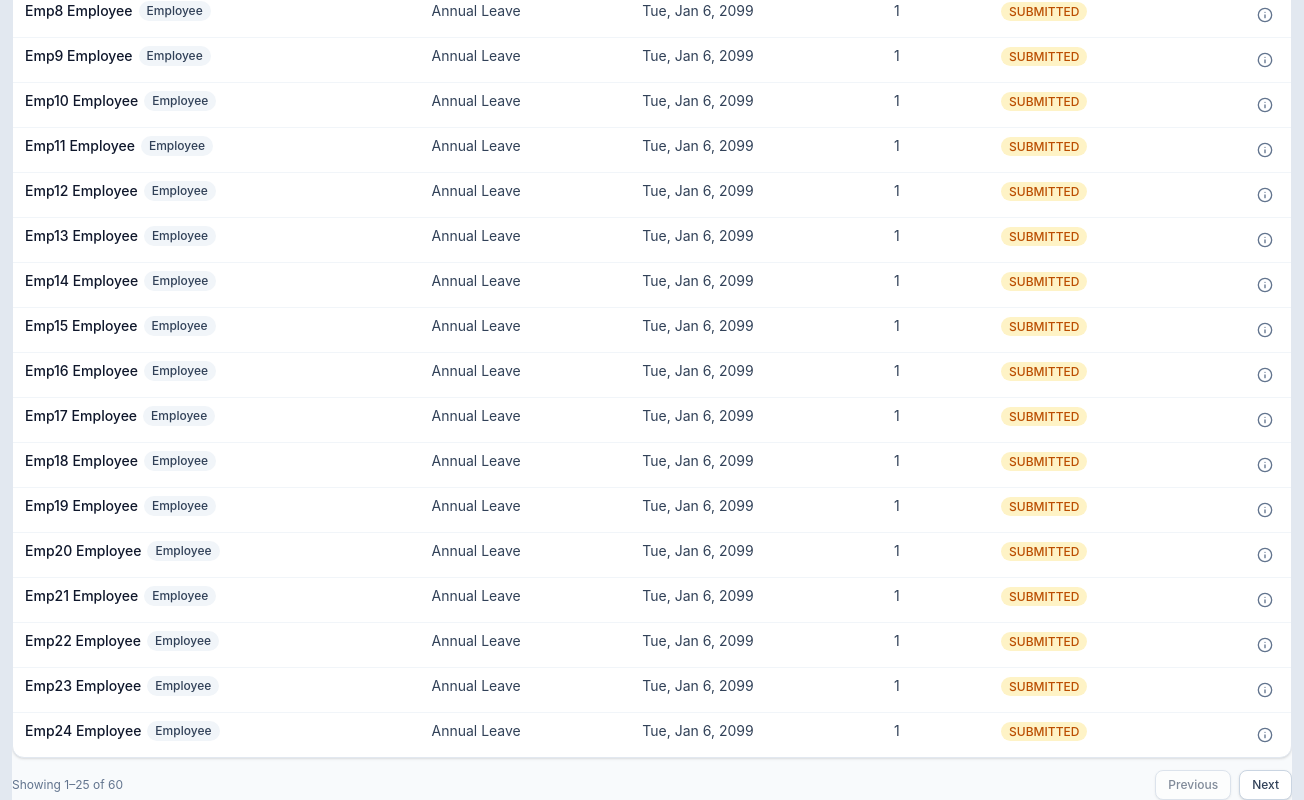
it: HrReportsPage › Browse Requests tab › pages through results, showing the server's total
(page scrolled)
Expected: the text "Showing 1–25 of 60" is shown, [12, 777, 123, 793]
Expected: the button "Previous" is disabled, [1155, 770, 1231, 799]
Click the button "Next": x=1266, y=785 [1239, 770, 1292, 799]
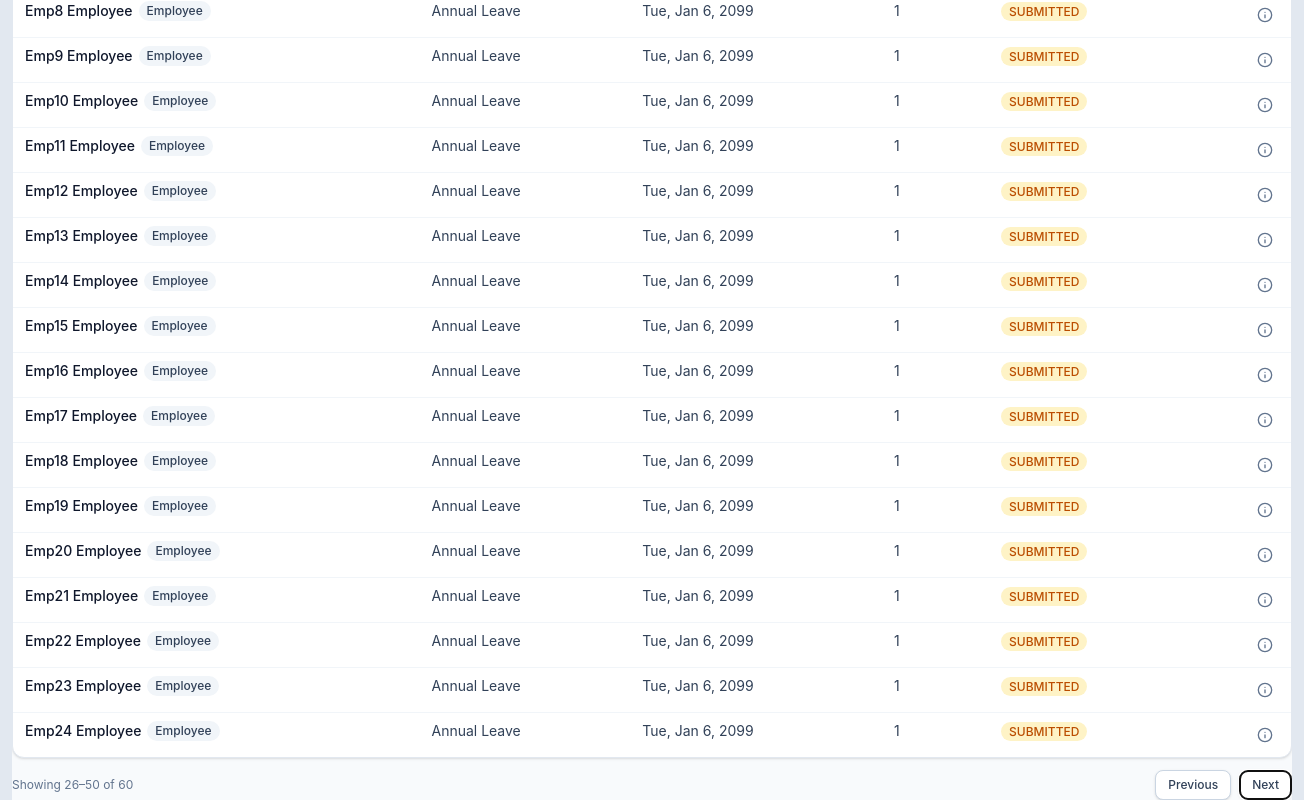
Now the text "Showing 26–50 of 60" is shown, box [12, 777, 133, 793]
Now the button "Previous" is enabled, box [1155, 770, 1231, 799]
